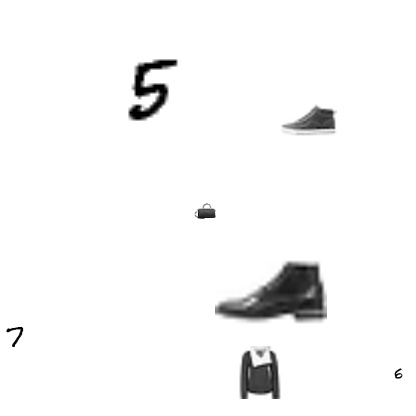5: (105, 45, 189, 129)
6: (391, 367, 405, 381)
7: (2, 320, 30, 348)
Ankle_boot: (215, 234, 327, 346)
Bag: (194, 200, 216, 222)
Coat: (232, 343, 288, 399)
Sneaker: (281, 91, 337, 147)
